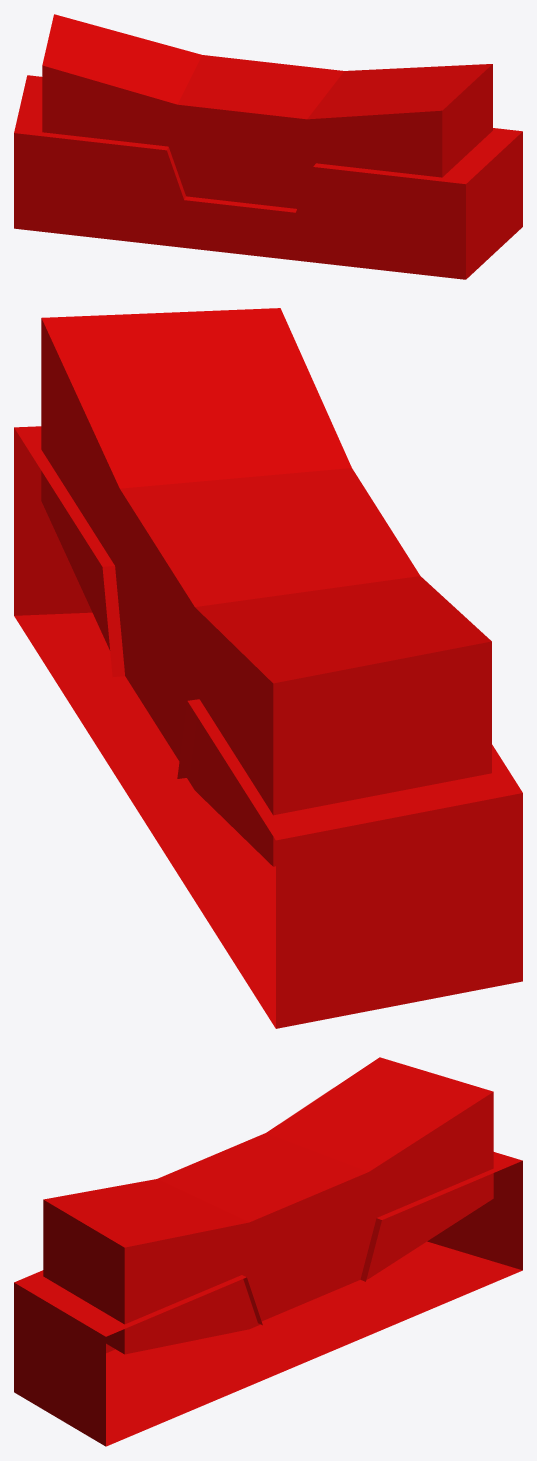
Rendered from R_Torch_Bottom.fbx.
3 views of the same model, one above another, from view 1: azimuth 30°, elevation 25°; view 2: azimuth 150°, elevation 25°; view 3: azimuth 270°, elevation 25° (orthographic). The views are drawn at different scales.
Parts seen in each view (by area): view 1: Torch_3, Torch_2; view 2: Torch_3, Torch_2; view 3: Torch_3, Torch_2.
Boxes of the visible parts, x1,y1,x2,y2 form: Torch_3: [42, 14, 492, 208]; Torch_2: [14, 75, 522, 279]; Torch_3: [41, 308, 491, 866]; Torch_2: [14, 426, 522, 1028]; Torch_3: [43, 1057, 493, 1354]; Torch_2: [14, 1152, 522, 1446].
Size of the model in its own units: 0.0129 by 0.00521 by 0.0129.
